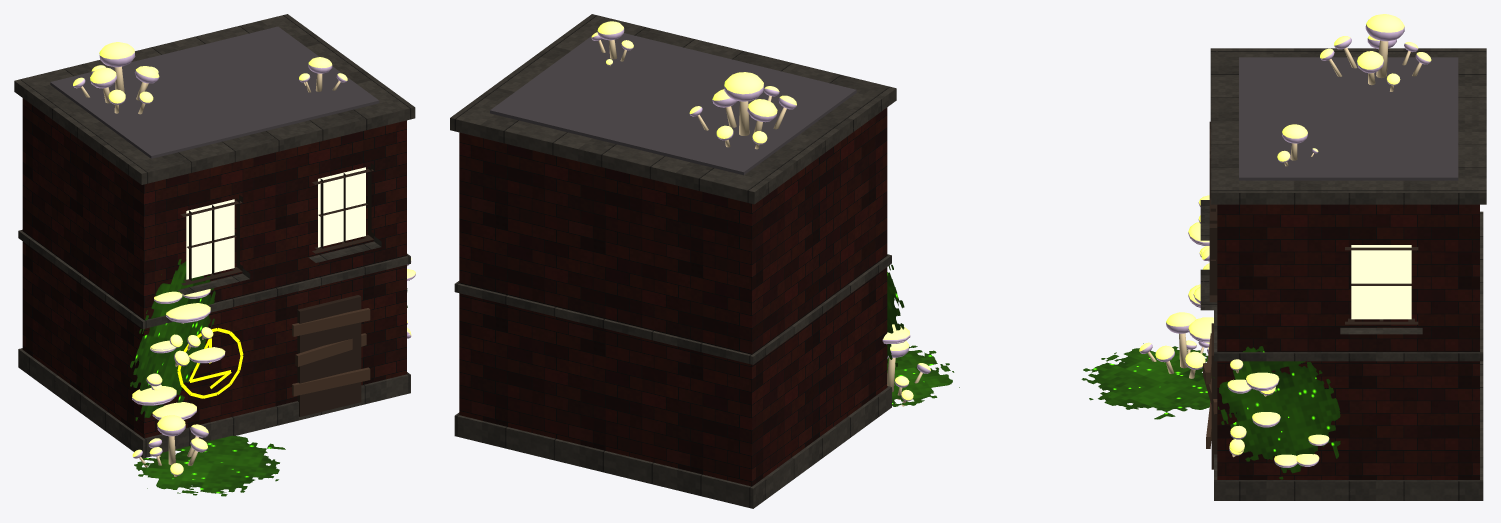
The model's file is pilz_haus.glb.
The picture shows the model from 3 angles, left to right: view 1: azimuth 30°, elevation 25°; view 2: azimuth 150°, elevation 25°; view 3: azimuth 270°, elevation 25°; orthographic projection. The views are drawn at different scales.
Visible parts, largest first — view 1: pilz_haus; view 2: pilz_haus; view 3: pilz_haus.
Boxes of the visible parts, box(x1,y1,x2,y2) form: pilz_haus: box(14, 14, 415, 496); pilz_haus: box(450, 14, 959, 508); pilz_haus: box(1081, 14, 1486, 500).
Bounding box in the file's own units: 4.04 × 3.83 × 4.23.
11 materials, 3 textured.
